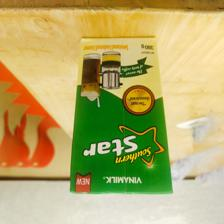NSPN_Hop: (69, 34, 175, 196)
